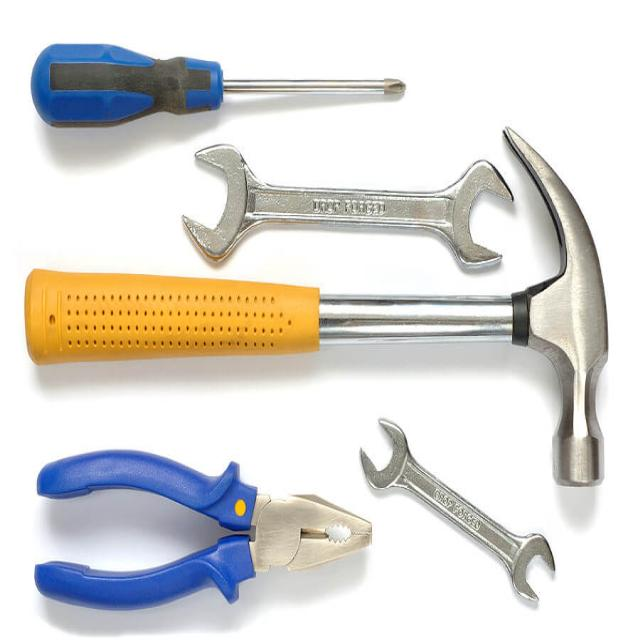Screwdriver: (31, 43, 405, 127)
